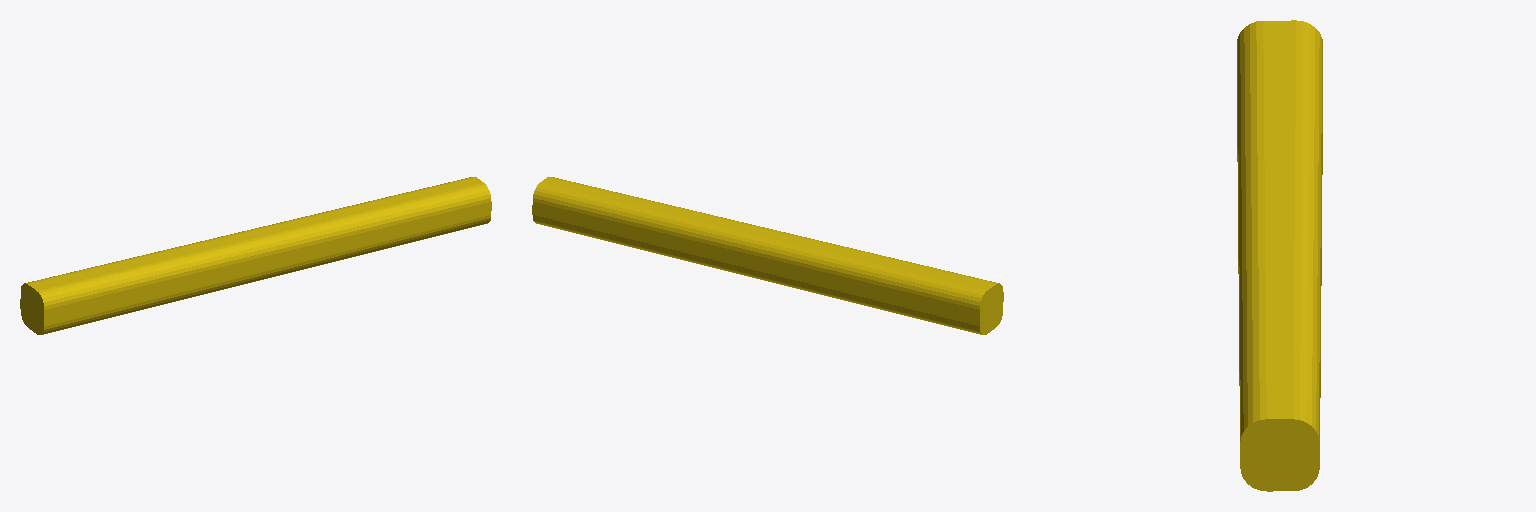
robot.urdf — cb_chopstick_s70d100:
<?xml version="1.0"?>
<!-- ContactBench chopstick. Generated by FoundationTouch tools/contactbench/make_contactbench_assets.py -->
<robot name="cb_chopstick_s70d100">
  <material name="c"><color rgba="0.85 0.75 0.10 1.0"/></material>
  <link name="object">
    <visual><origin xyz="0 0 0" rpy="0 0 0"/><geometry><mesh filename="chopstick.obj" scale="1 1 1"/></geometry><material name="c"/></visual>
    <collision><origin xyz="0 0 0" rpy="0 0 0"/><geometry><mesh filename="coll_00.obj" scale="1 1 1"/></geometry></collision>
    <inertial><mass value="1.908262e-03"/><origin xyz="0 0 0" rpy="0 0 0"/><inertia ixx="1.080276e-08" ixy="7.850491e-16" ixz="-2.573304e-16" iyy="7.827723e-07" iyz="2.714445e-15" izz="7.827723e-07"/></inertial>
  </link>
</robot>

--- What the picture shows (computed from the rendered views, not written in the file) ---
The picture shows the robot from 3 angles, left to right: view 1: azimuth 30°, elevation 25°; view 2: azimuth 150°, elevation 25°; view 3: azimuth 270°, elevation 25°; orthographic projection.
Robot: cb_chopstick_s70d100 — 1 links, 0 joints (none); root link object; default pose: all joints at 0.
Links seen in each view (by area): view 1: object; view 2: object; view 3: object.
Link boxes in pixels (x1,y1,x2,y2): object: [20, 177, 491, 334]; object: [532, 177, 1003, 334]; object: [1237, 20, 1322, 491].
Size in the robot's own frame: 0.07 by 0.0065 by 0.0065 metres.
Meshes: 1 distinct files referenced, 1 mesh visuals loaded (1 OBJ).
